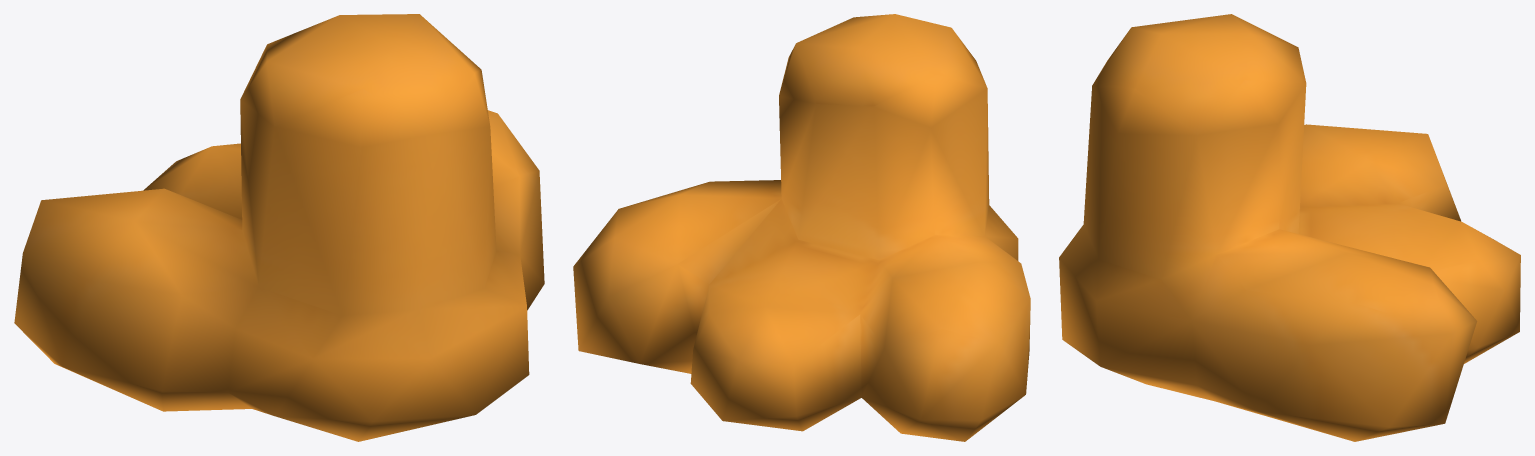
The picture shows the model from 3 angles, left to right: view 1: azimuth 30°, elevation 25°; view 2: azimuth 150°, elevation 25°; view 3: azimuth 270°, elevation 25°; orthographic projection. The views are drawn at different scales.
Bounding box in the file's own units: 1.46 × 1.04 × 1.36.
Materials: 1 (1 with a texture image).
